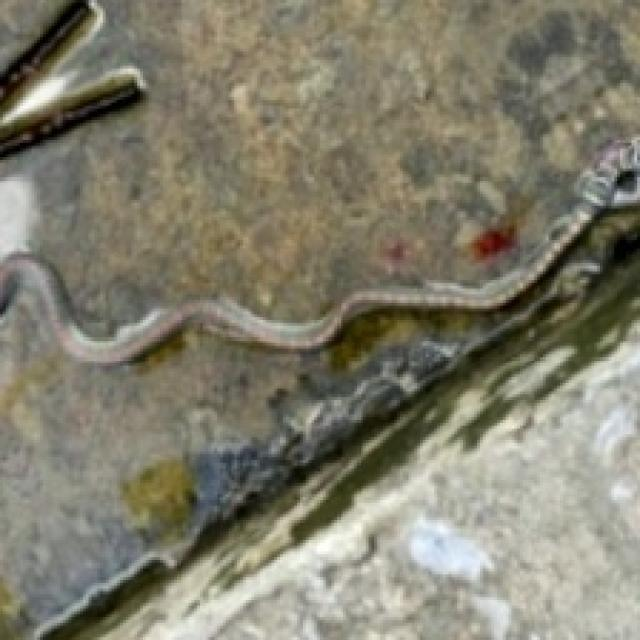paradise tree snake: (0, 137, 637, 363)
